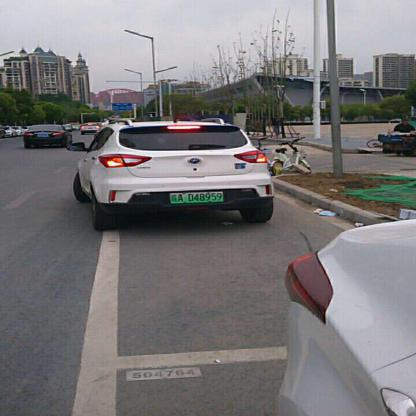lp: (169, 190, 223, 203)
